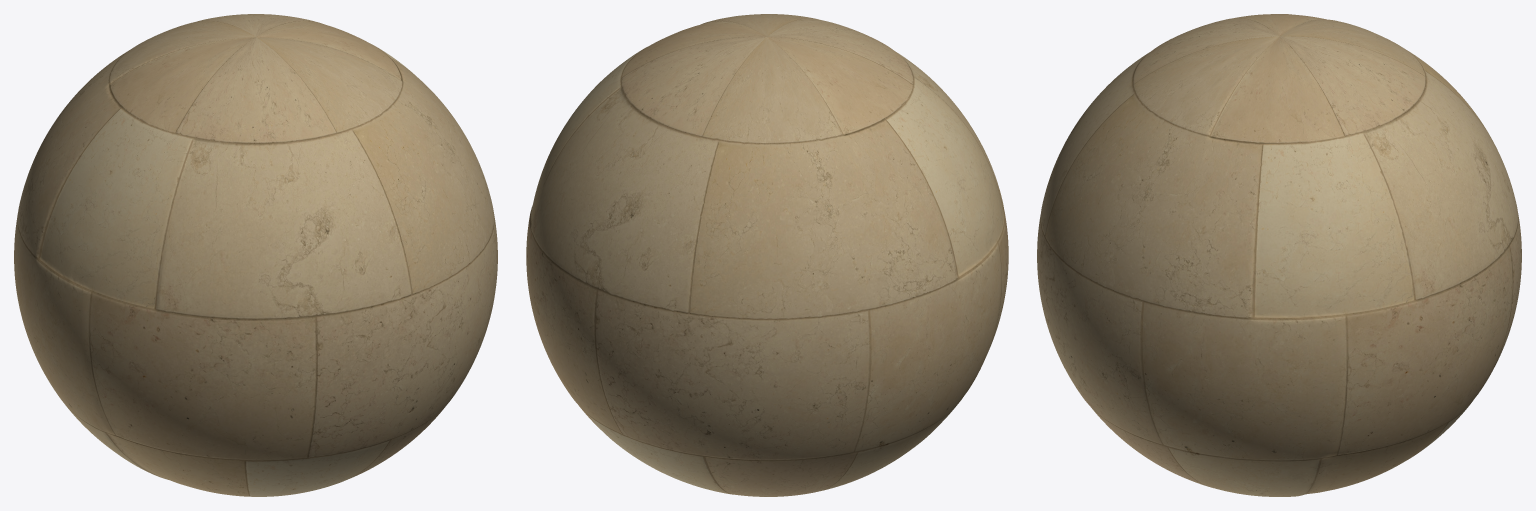
Rendered from marble_01_1k.glb.
3 renders of one model, left to right at view 1: azimuth 30°, elevation 25°; view 2: azimuth 150°, elevation 25°; view 3: azimuth 270°, elevation 25°, orthographic.
Parts seen in each view (by area): view 1: sphere_gltf; view 2: sphere_gltf; view 3: sphere_gltf.
Part boxes in pixels (x1=…): sphere_gltf: x1=14, y1=14, x2=497, y2=496; sphere_gltf: x1=526, y1=14, x2=1008, y2=496; sphere_gltf: x1=1037, y1=14, x2=1521, y2=496.
Bounding box in the file's own units: 1.5 × 1.5 × 1.51.
1 material, 1 textured.
